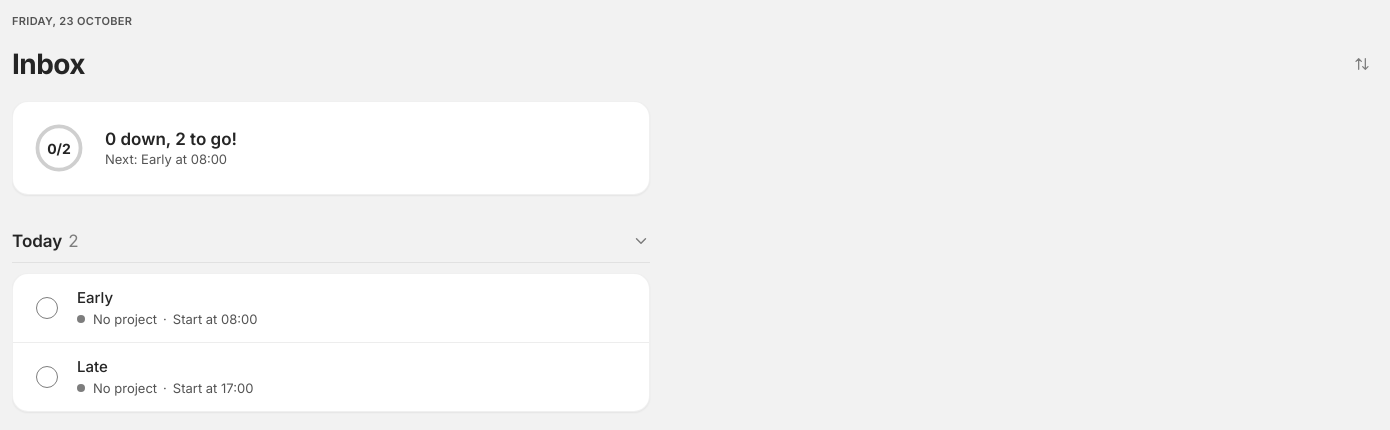
Sort menu (#178) › does not offer Sort by rules (dragging in smart order automatically switches to manual)
Click the button named "Sort Inbox" at (1362, 64), box [1346,48,1378,80]
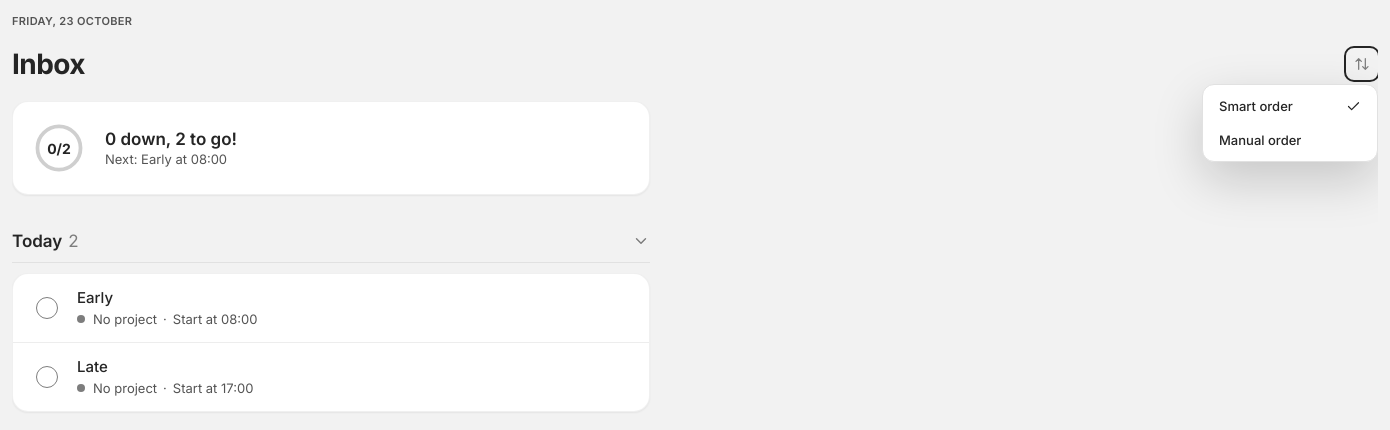
Expected: the menu item "Smart order" is shown, [1207,89,1373,123]
Expected: the menu item "Manual order" is shown, [1207,123,1373,157]
